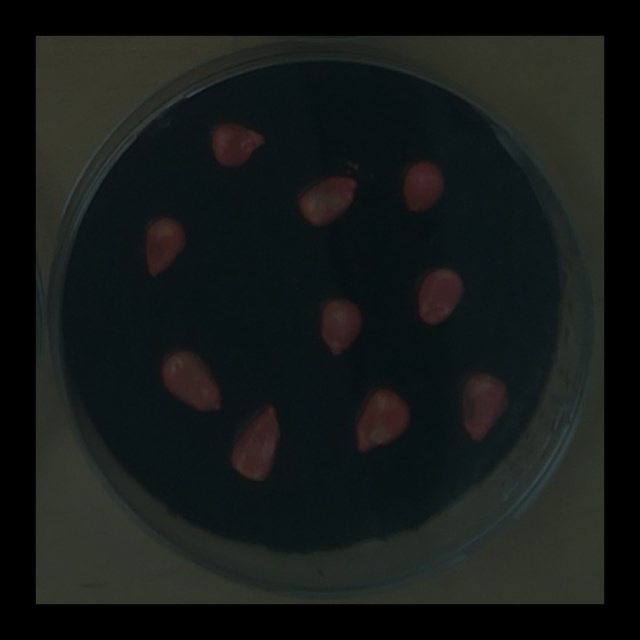Zea mays: (222, 399, 287, 490), (152, 344, 228, 419), (347, 382, 417, 459), (455, 366, 514, 449), (292, 168, 364, 232), (410, 260, 471, 332), (312, 290, 369, 362), (204, 116, 271, 173), (138, 213, 192, 283), (395, 153, 452, 219)
